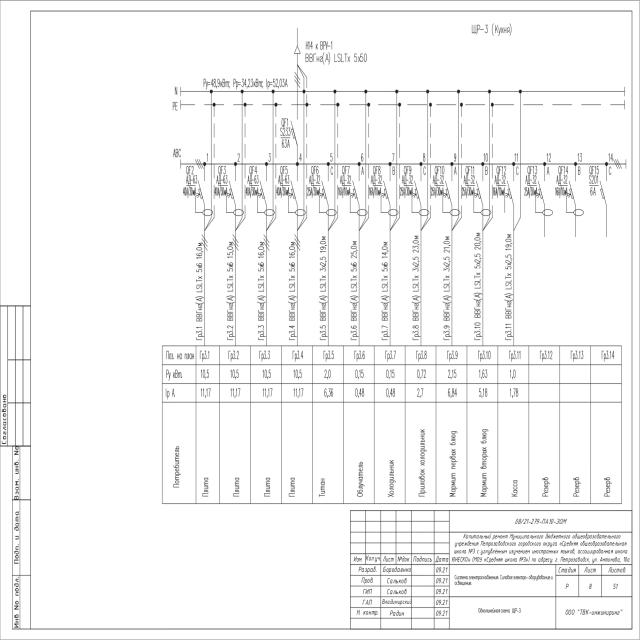-: (212, 175, 230, 197), (459, 174, 476, 197), (552, 174, 569, 197), (490, 174, 507, 197), (274, 175, 291, 198), (305, 174, 322, 197), (366, 175, 383, 197), (520, 175, 537, 197), (243, 175, 260, 197), (428, 174, 445, 196), (182, 174, 198, 197), (398, 174, 414, 197), (336, 174, 352, 197), (470, 21, 491, 36), (280, 126, 292, 149), (588, 175, 599, 197)
QF: (290, 72, 302, 146), (600, 174, 610, 206)
QFD: (194, 179, 214, 217), (380, 179, 400, 217), (411, 179, 431, 217), (225, 179, 245, 217), (287, 178, 307, 216), (441, 178, 461, 216), (349, 178, 369, 215), (257, 179, 276, 217), (473, 179, 492, 217), (319, 178, 338, 216), (535, 179, 554, 217), (566, 178, 585, 216), (503, 178, 515, 213)
